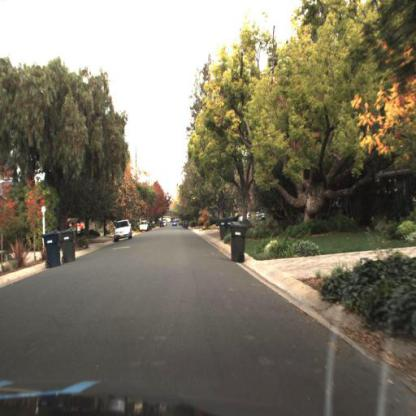car: (113, 218, 136, 246), (115, 220, 134, 241), (66, 217, 88, 233), (140, 221, 150, 234)
